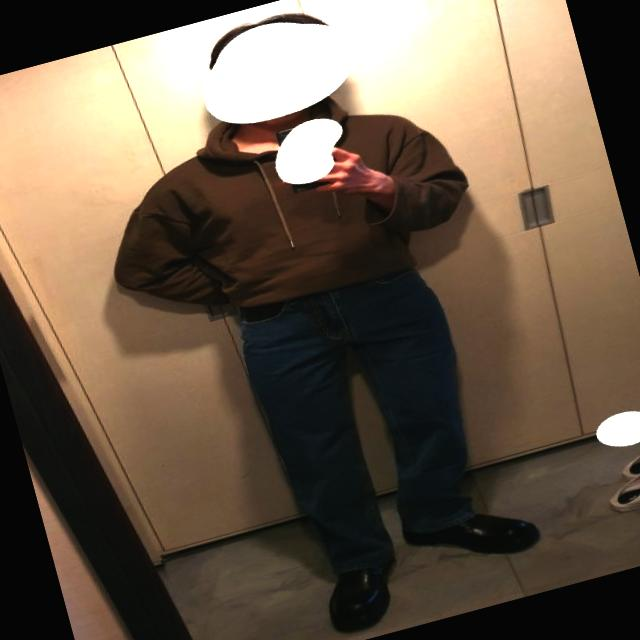denimpants: (228, 250, 505, 584)
hoodies: (84, 63, 492, 344)
